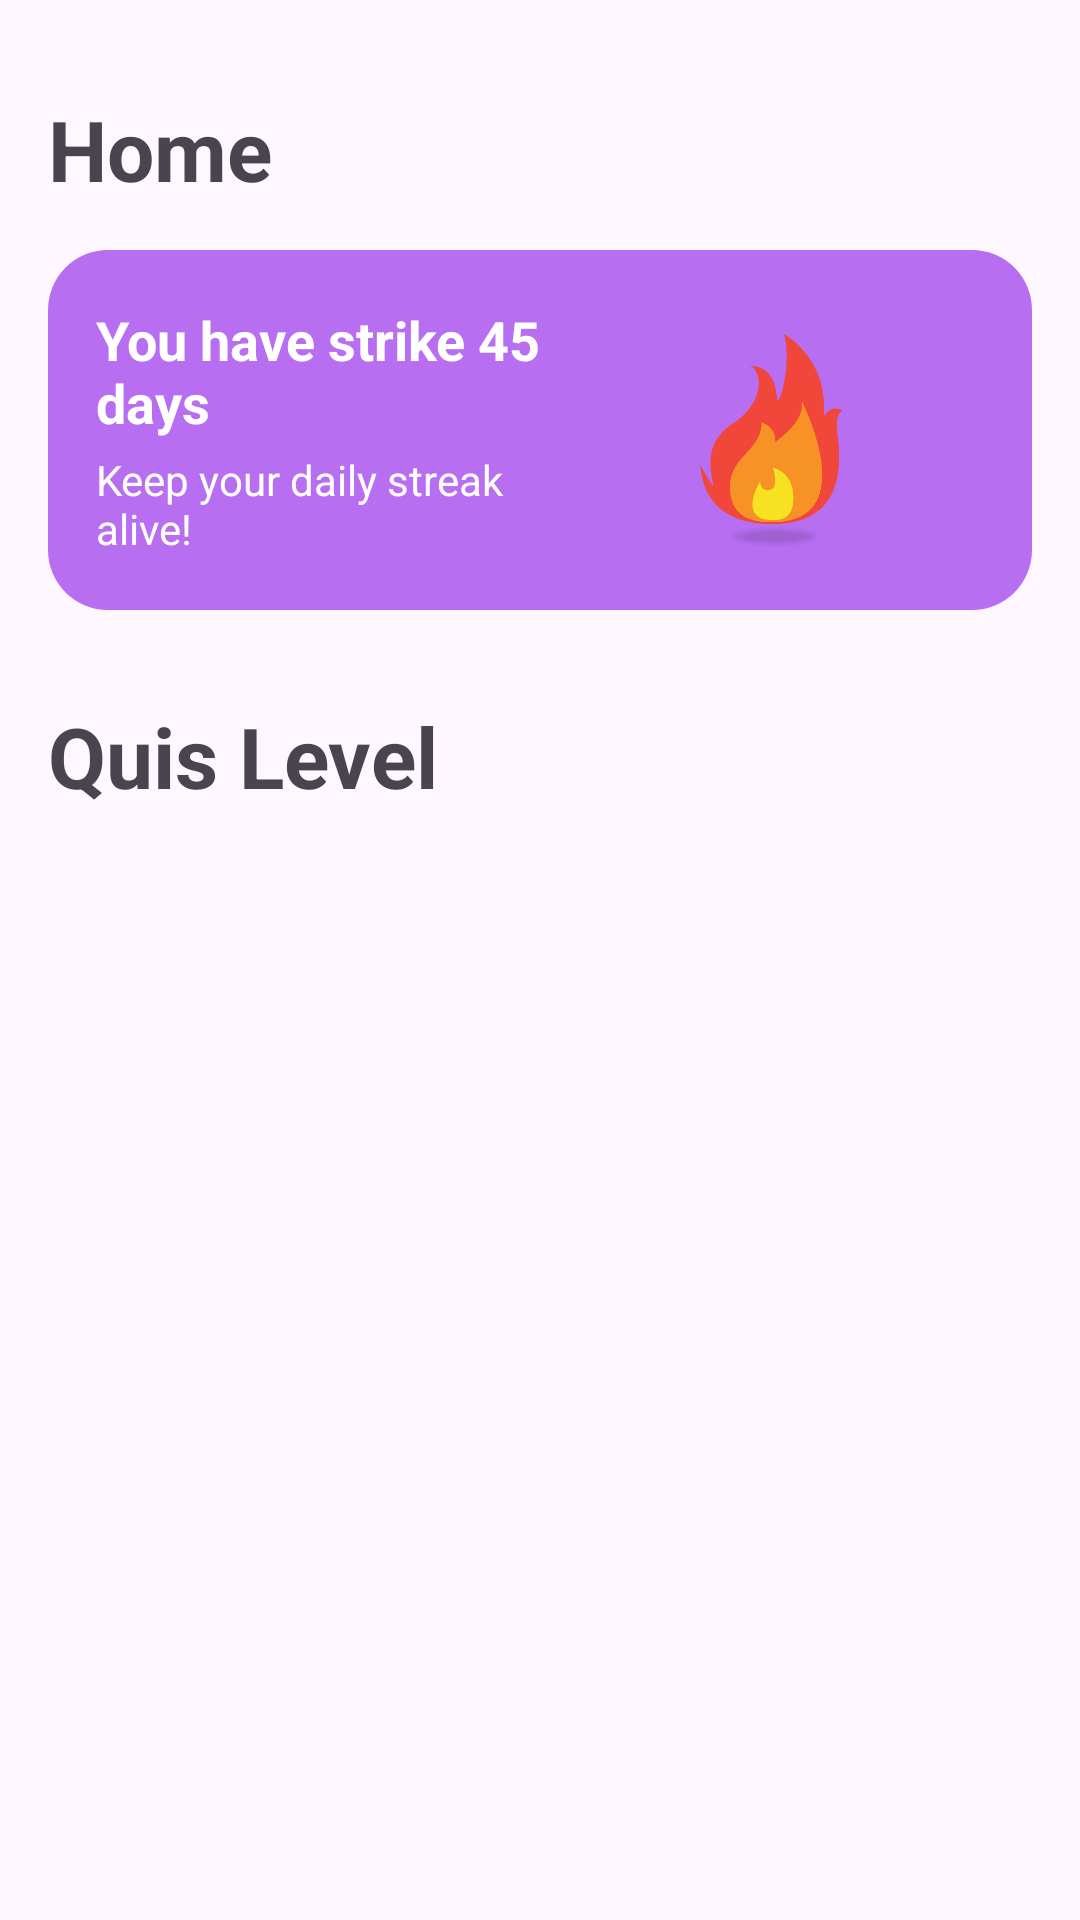

Icons on this 1080x1920 Android screen, each with the point to tap as (x=x, y=y):
fire: (x=771, y=438)
